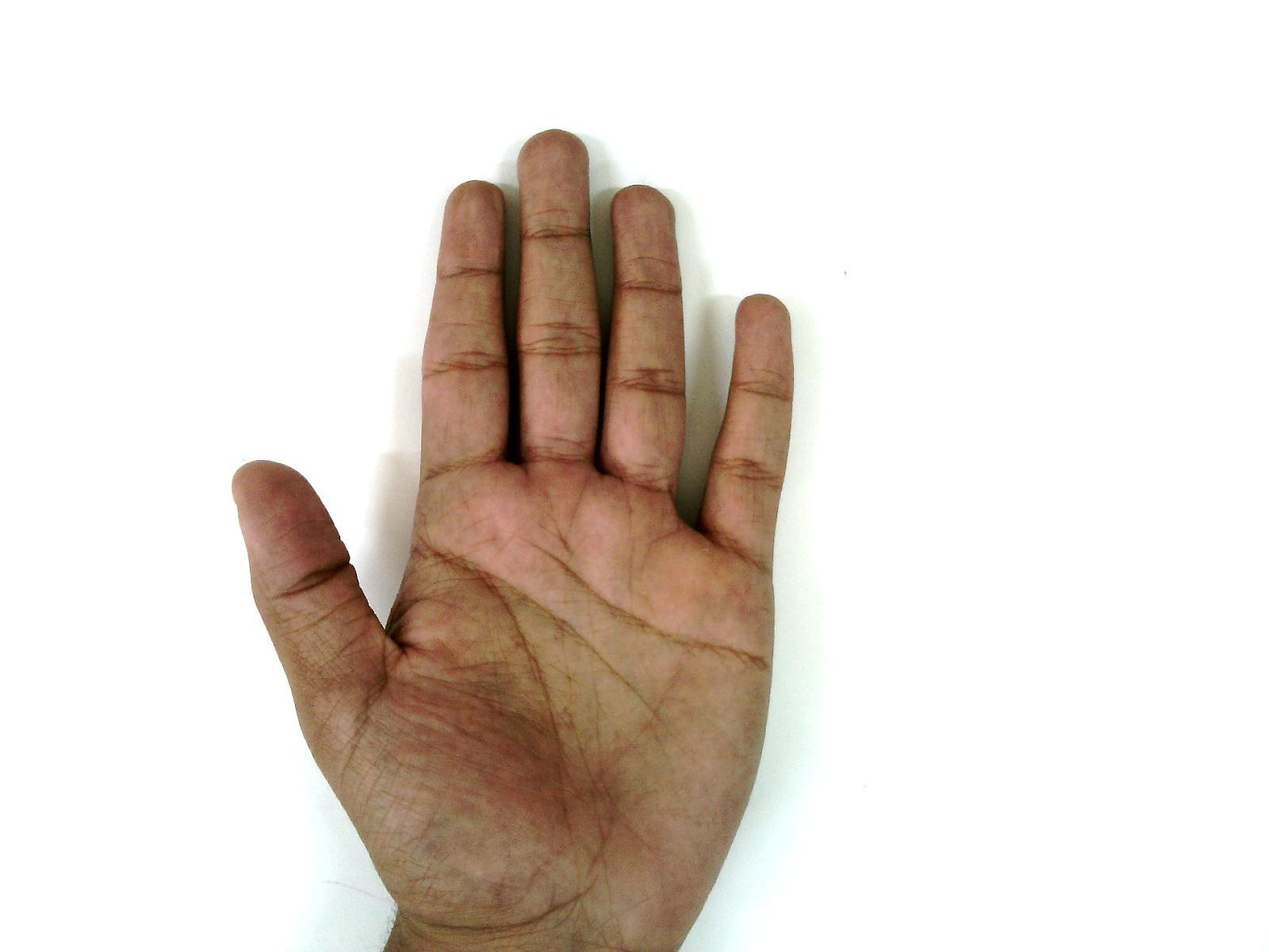open_palm: (230, 128, 799, 951)
